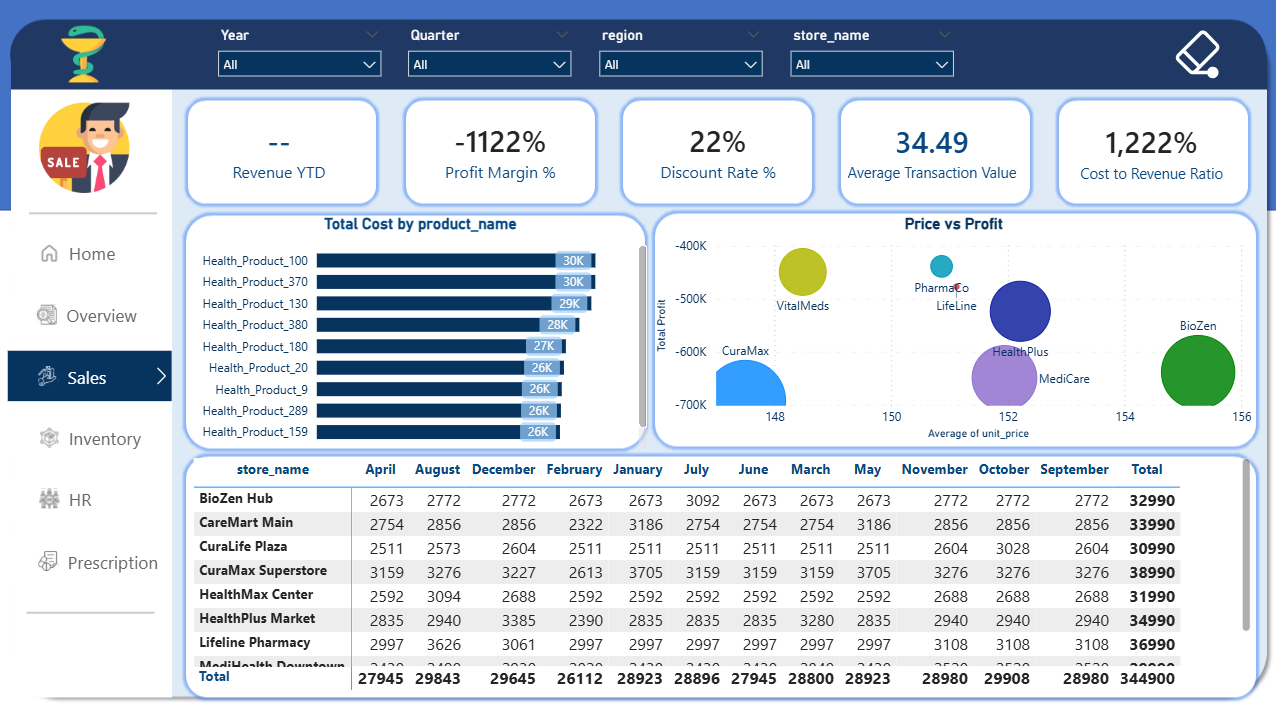

This screenshot's page, from the dashboard's own definition file:
{"tool":"powerbi","page":{"name":" Sales Performance","canvas":[1280,720],"ordinal":2},"visuals":[{"type":"cardVisual","fields":{"Data":["FINANCIAL KPIS.Revenue YTD"]},"box":[189.9,104.1,180.8,101.5],"z":0},{"type":"actionButton","title":"Button sales active","box":[9.1,354.4,163.9,50.7],"z":0,"group":"g1"},{"type":"cardVisual","fields":{"Data":["FINANCIAL KPIS.Profit Margin %"]},"box":[403.3,104.1,195.1,101.5],"z":1000},{"type":"actionButton","box":[145.7,354.4,27.3,50.7],"z":1000,"group":"g1"},{"type":"cardVisual","fields":{"Data":["FINANCIAL KPIS.Discount Rate %"]},"box":[623.1,104.1,193.8,101.5],"z":2000},{"type":"cardVisual","fields":{"Data":["FINANCIAL KPIS.Average Transaction Value"]},"box":[816.9,104.1,231.5,101.5],"z":3000},{"type":"cardVisual","fields":{"Data":["FINANCIAL KPIS.Cost to Revenue Ratio"]},"box":[1048.5,84.6,208.1,140.5],"z":4000},{"type":"barChart","fields":{"Category":["Products.product_name"],"Y":["FINANCIAL KPIS.Total Cost"]},"box":[189.9,217.2,463.1,239.3],"z":5000},{"type":"scatterChart","title":"Price vs Profit","fields":{"X":["Avg(Products.unit_price)"],"Y":["FINANCIAL KPIS.Total Profit"],"Series":["Products.brand"],"Size":["SALES KPIs.Units Sold"]},"box":[653,217.2,604.9,230.2],"z":6000},{"type":"pivotTable","fields":{"Rows":["Stores.store_name"],"Columns":["Date_Dim.Month_Name"],"Values":["FINANCIAL KPIS.Total Revenue"]},"box":[189.9,456.6,1066.7,242],"z":7000},{"type":"slicer","fields":{"Values":["Date_Dim.Year"]},"box":[209.1,25.6,183.5,63.2],"z":8000},{"type":"slicer","fields":{"Values":["Date_Dim.Quarter"]},"box":[398.7,25.6,183.5,63.2],"z":9000},{"type":"slicer","fields":{"Values":["Stores.region"]},"box":[589.8,25.6,183.5,63.2],"z":10000},{"type":"slicer","fields":{"Values":["Stores.store_name"]},"box":[780.8,25.6,183.5,63.2],"z":11000},{"type":"actionButton","box":[9.5,231.2,163.3,50.3],"z":12000},{"type":"actionButton","box":[9.1,538.5,162.6,50.7],"z":13000},{"type":"actionButton","box":[7.8,292.5,163.9,50.7],"z":14000},{"type":"actionButton","box":[10.4,476.7,162.6,50.7],"z":16000},{"type":"actionButton","box":[10.4,416.2,162.6,49.4],"z":17000},{"type":"shape","box":[30.2,201,128.2,30.2],"z":18000},{"type":"image","box":[56.5,26.4,56.5,61.6],"z":19000},{"type":"group","id":"g1","title":"Group 2","box":[9.1,354.4,163.9,50.7],"z":20000},{"type":"shape","box":[27.5,601.8,128.3,29],"z":25000},{"type":"image","box":[1171.5,25.3,55.5,62.7],"z":26000},{"type":"image","box":[40,100,90,101.2],"z":27000}]}

Visuals, with their boxes on the page's 1280x720 design canvas (x1, y1, x2, y2). These are canvas units, not pixel positions in the 1276x707 screenshot, which may show the page scaled, cropped or inside an application window:
cardVisual - FINANCIAL KPIS.Revenue YTD: locate(190, 104, 371, 206)
"Button sales active" actionButton: locate(9, 354, 173, 405)
cardVisual - FINANCIAL KPIS.Profit Margin %: locate(403, 104, 598, 206)
actionButton: locate(146, 354, 173, 405)
cardVisual - FINANCIAL KPIS.Discount Rate %: locate(623, 104, 817, 206)
cardVisual - FINANCIAL KPIS.Average Transaction Value: locate(817, 104, 1048, 206)
cardVisual - FINANCIAL KPIS.Cost to Revenue Ratio: locate(1048, 85, 1257, 225)
barChart - Products.product_name x FINANCIAL KPIS.Total Cost: locate(190, 217, 653, 456)
"Price vs Profit" scatterChart: locate(653, 217, 1258, 447)
pivotTable - Stores.store_name x Date_Dim.Month_Name: locate(190, 457, 1257, 699)
slicer - Date_Dim.Year: locate(209, 26, 393, 89)
slicer - Date_Dim.Quarter: locate(399, 26, 582, 89)
slicer - Stores.region: locate(590, 26, 773, 89)
slicer - Stores.store_name: locate(781, 26, 964, 89)
actionButton: locate(10, 231, 173, 282)
actionButton: locate(9, 538, 172, 589)
actionButton: locate(8, 292, 172, 343)
actionButton: locate(10, 477, 173, 527)
actionButton: locate(10, 416, 173, 466)
shape: locate(30, 201, 158, 231)
image: locate(56, 26, 113, 88)
"Group 2" group: locate(9, 354, 173, 405)
shape: locate(28, 602, 156, 631)
image: locate(1172, 25, 1227, 88)
image: locate(40, 100, 130, 201)
